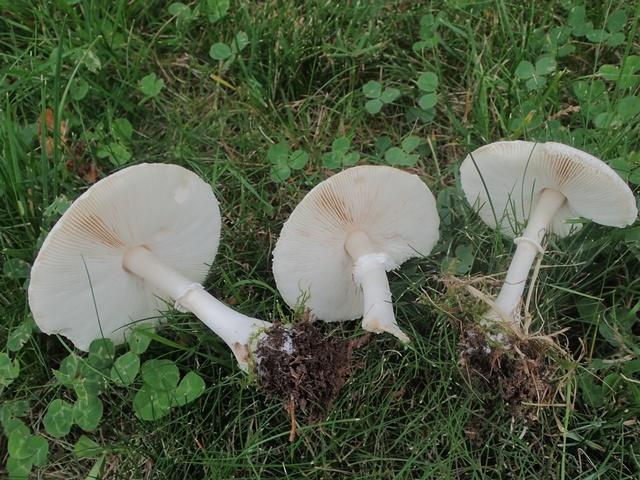Non-edible Mushroom: (26, 161, 293, 382), (458, 138, 637, 345), (270, 163, 440, 345)
